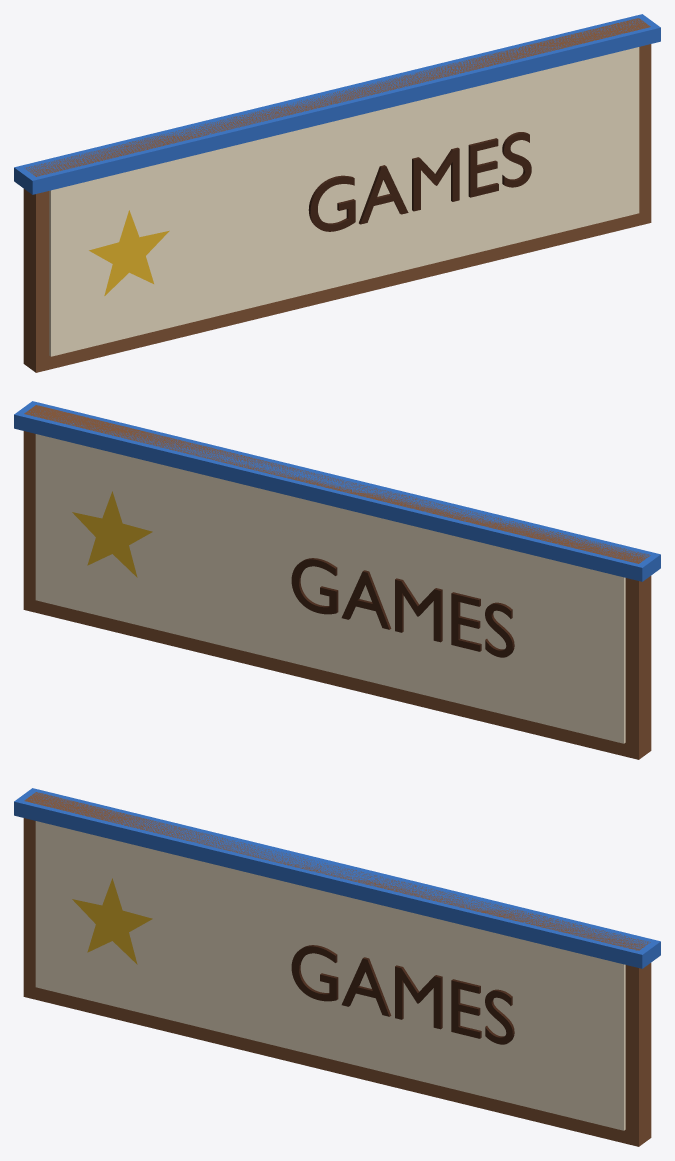
Rendered from kiosk-sign-games.glb.
3 views of the same model, one above another, from view 1: azimuth 30°, elevation 25°; view 2: azimuth 150°, elevation 25°; view 3: azimuth 330°, elevation 25° (orthographic).
Parts seen in each view (by area): view 1: kiosk-sign-games; view 2: kiosk-sign-games; view 3: kiosk-sign-games.
Part boxes in pixels (left/top/right/bottom): kiosk-sign-games: left=14, top=14, right=660, bottom=372; kiosk-sign-games: left=14, top=401, right=660, bottom=759; kiosk-sign-games: left=14, top=788, right=660, bottom=1146.
Size of the model in its own units: 4.7 by 1.4 by 0.246.
